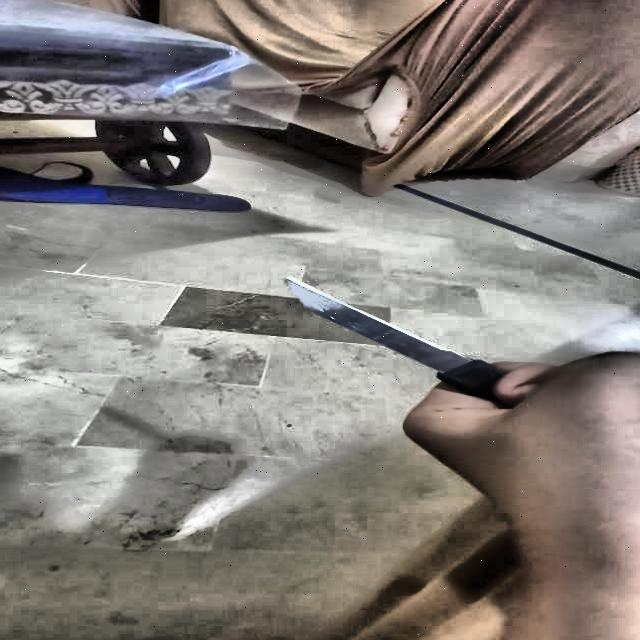knife: (287, 279, 503, 403)
